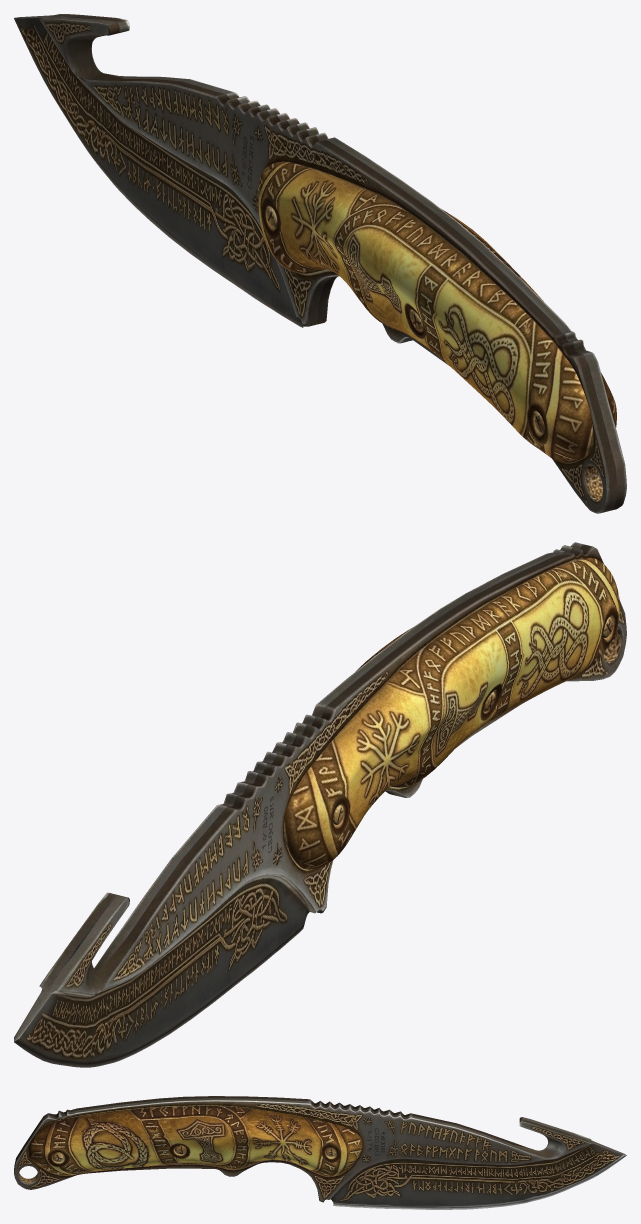
File: knife_gut.glb
3 views of the same model, one above another, from view 1: azimuth 30°, elevation 25°; view 2: azimuth 150°, elevation 25°; view 3: azimuth 270°, elevation 25° (orthographic). The views are drawn at different scales.
Visible parts, largest first — view 1: studio_v_knife_gut_smd_mesh_0_Default_0; view 2: studio_v_knife_gut_smd_mesh_0_Default_0; view 3: studio_v_knife_gut_smd_mesh_0_Default_0.
Part boxes in pixels (box(x1,y1,x2,y2)): studio_v_knife_gut_smd_mesh_0_Default_0: box(14, 14, 626, 513); studio_v_knife_gut_smd_mesh_0_Default_0: box(14, 542, 626, 1067); studio_v_knife_gut_smd_mesh_0_Default_0: box(14, 1096, 626, 1209).
Size of the model in its own units: 0.0201 by 0.0433 by 0.215.
Materials: 1 (1 with a texture image).
